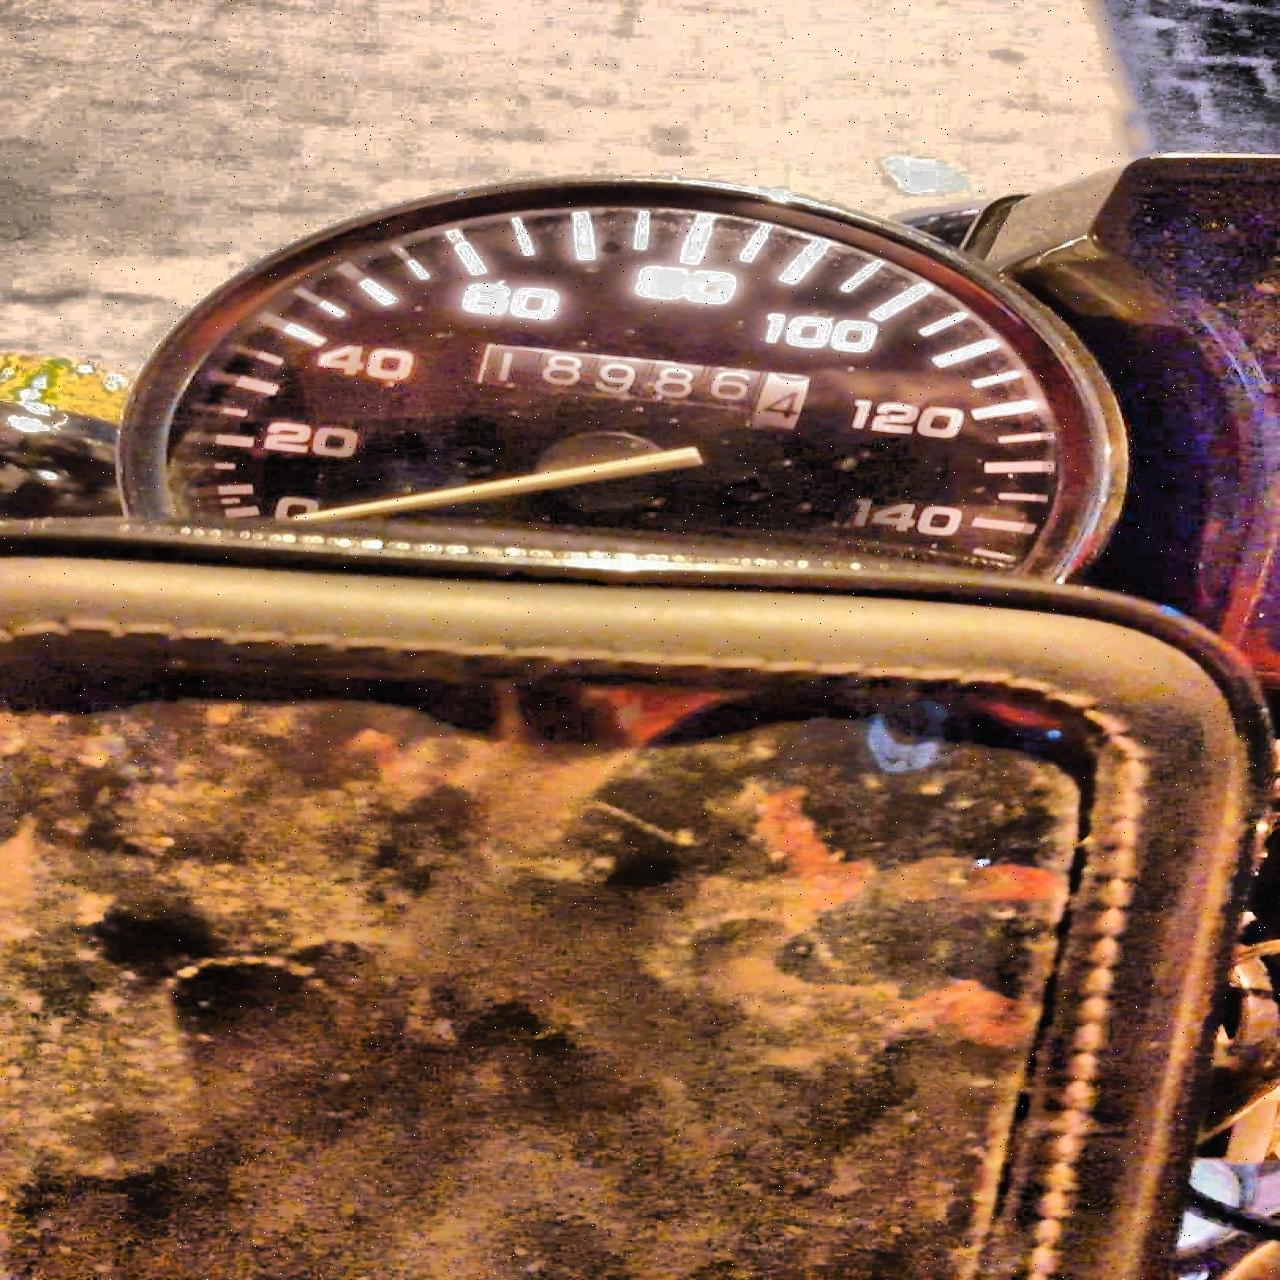1: (491, 350, 522, 382)
4: (763, 389, 798, 421)
6: (709, 370, 750, 402)
8: (649, 366, 694, 399), (540, 353, 581, 387)
9: (592, 361, 633, 394)
odometer: (469, 340, 813, 435)
